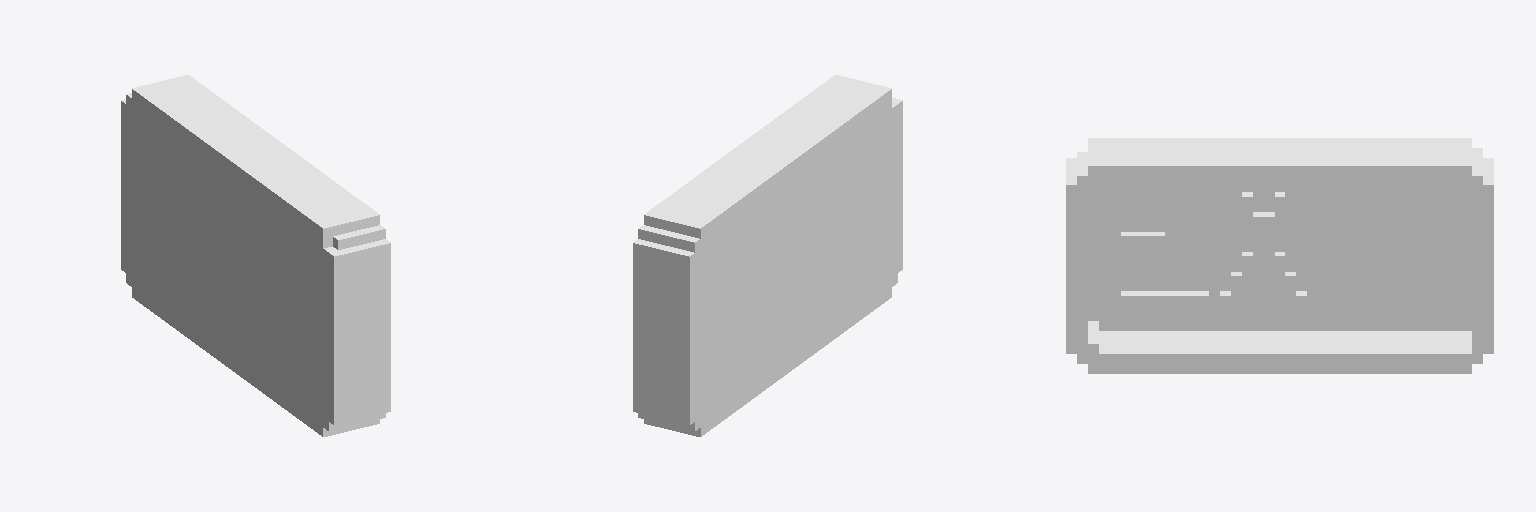
Rendered from ExitGamePanel.obj.
The picture shows the model from 3 angles: view 1: azimuth 30°, elevation 25°; view 2: azimuth 150°, elevation 25°; view 3: azimuth 270°, elevation 25°; orthographic projection.
Visible parts, largest first — view 1: object 1; view 2: object 1; view 3: object 1.
Boxes of the visible parts, box(x1,y1,x2,y2) form: object 1: box(121, 75, 390, 436); object 1: box(633, 75, 902, 436); object 1: box(1066, 138, 1493, 373).
Bounding box in the file's own units: 0.6 × 2.1 × 3.9.